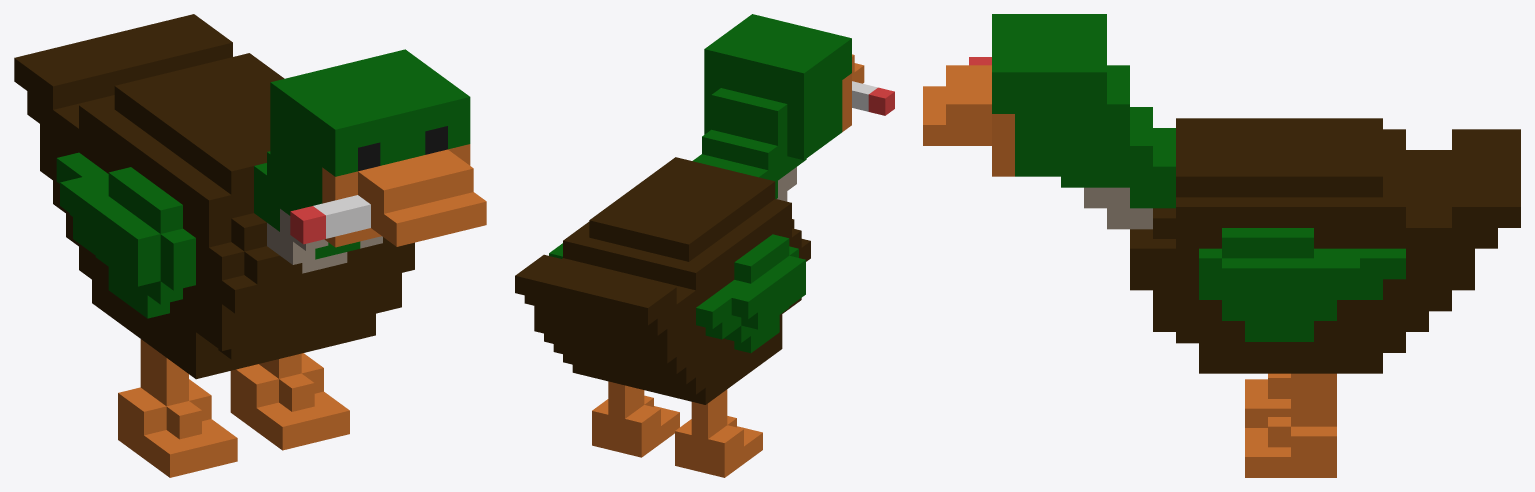
File: lv37 duck.fbx
3 renders of one model, left to right at view 1: azimuth 30°, elevation 25°; view 2: azimuth 150°, elevation 25°; view 3: azimuth 270°, elevation 25°, orthographic. The views are drawn at different scales.
Visible parts, largest first — view 1: polySurface5915, polySurface6019, polySurface6039, polySurface6055, polySurface6130, polySurface6410, polySurface5925, polySurface5950, polySurface5970, polySurface6062, polySurface6122, polySurface6280 (+107 smaller); view 2: polySurface6517, polySurface6017, polySurface6085, polySurface6184, polySurface6317, polySurface6381, polySurface5917, polySurface5937, polySurface6018, polySurface6035, polySurface6089, polySurface6492 (+45 smaller); view 3: polySurface6020, polySurface6027, polySurface6102, polySurface6117, polySurface6125, polySurface6163, polySurface6223, polySurface6267, polySurface6415, polySurface6453, polySurface6476, polySurface6484 (+45 smaller).
Boxes of the visible parts, box(x1,y1,x2,y2) form: polySurface5915: box(244, 246, 279, 284); polySurface6019: box(40, 71, 75, 109); polySurface6039: box(279, 373, 314, 411); polySurface6055: box(196, 185, 231, 223); polySurface6130: box(209, 242, 244, 280); polySurface6410: box(243, 369, 278, 407); polySurface5925: box(384, 208, 419, 246); polySurface5950: box(218, 156, 253, 194); polySurface5970: box(222, 275, 257, 313); polySurface6062: box(131, 397, 166, 435); polySurface6122: box(166, 401, 201, 439); polySurface6280: box(157, 439, 192, 477); polySurface6517: box(734, 255, 760, 283); polySurface6017: box(631, 297, 657, 325); polySurface6085: box(761, 100, 787, 128); polySurface6184: box(787, 62, 813, 90); polySurface6317: box(868, 87, 894, 115); polySurface6381: box(708, 432, 734, 460); polySurface5917: box(672, 233, 698, 261); polySurface5937: box(751, 142, 777, 170); polySurface6018: box(731, 291, 757, 319); polySurface6035: box(679, 262, 705, 290); polySurface6089: box(696, 301, 722, 328); polySurface6492: box(625, 412, 651, 440); polySurface6020: box(1268, 166, 1290, 197); polySurface6027: box(1360, 166, 1382, 197); polySurface6102: box(1222, 166, 1244, 197); polySurface6117: box(1199, 248, 1221, 279); polySurface6125: box(1337, 166, 1359, 197); polySurface6163: box(1314, 166, 1336, 197); polySurface6223: box(1383, 248, 1405, 279); polySurface6267: box(1245, 166, 1267, 197); polySurface6415: box(1176, 166, 1198, 197); polySurface6453: box(1360, 248, 1382, 279); polySurface6476: box(1199, 166, 1221, 197); polySurface6484: box(1291, 166, 1313, 197).
Size of the model in its own units: 12 by 19 by 26.
